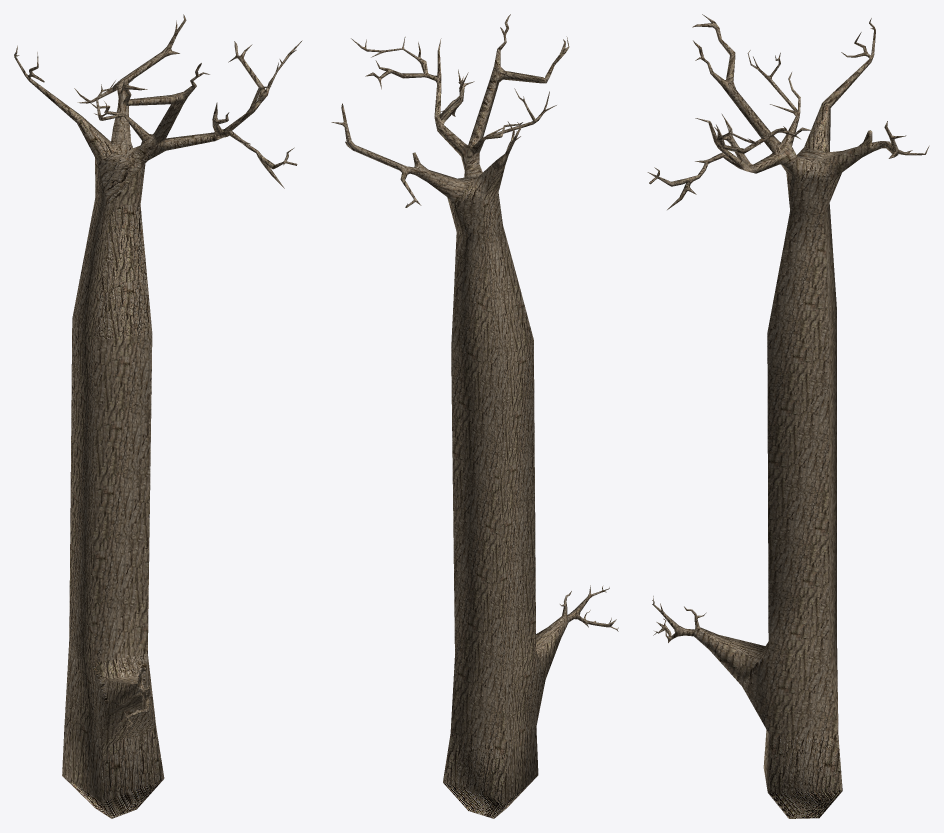
File: dead_tree_4.fbx
3 views of the same model, side by side, from view 1: azimuth 30°, elevation 25°; view 2: azimuth 150°, elevation 25°; view 3: azimuth 270°, elevation 25° (orthographic). The views are drawn at different scales.
Parts seen in each view (by area): view 1: dead_tree_4; view 2: dead_tree_4; view 3: dead_tree_4.
Boxes of the visible parts, box(x1,y1,x2,y2) form: dead_tree_4: box(14, 14, 302, 818); dead_tree_4: box(331, 14, 618, 818); dead_tree_4: box(647, 14, 929, 818).
Size of the model in its own units: 518 by 1664 by 539.
1 material, 1 textured.
